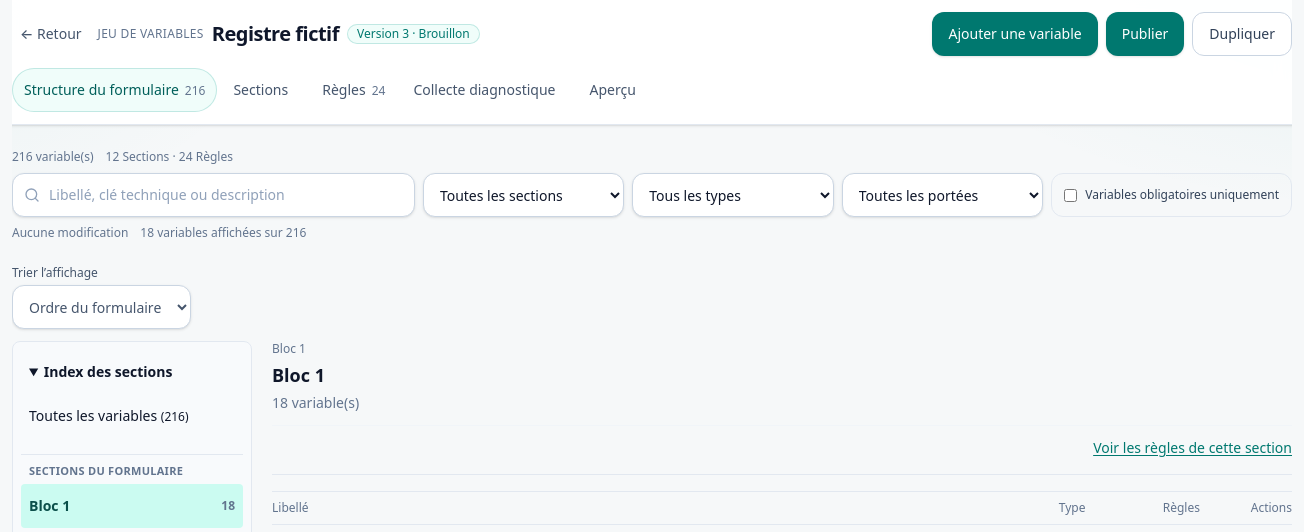
TemplateVersionEditor — 216 variables / 24 regles (UX-14) › trier l affichage ne reordonne jamais les donnees et suspend le deplacement
This screenshot has width=1304, height=532.
Expected: the heading "Registre fictif" is shown, [212,20,339,48]
Select "Bloc 1" in the dropdown named "Filtrer par section" at (524, 195), box [423,173,624,217]
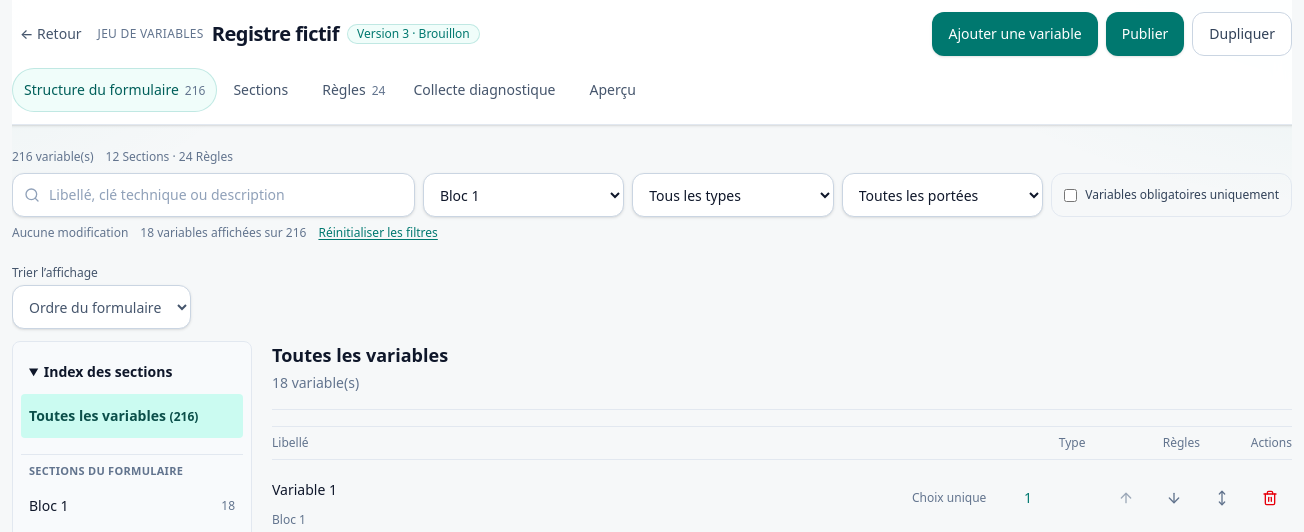
Select "Libellé" in the dropdown labelled "Trier l’affichage" at (102, 307), box [12,285,191,329]
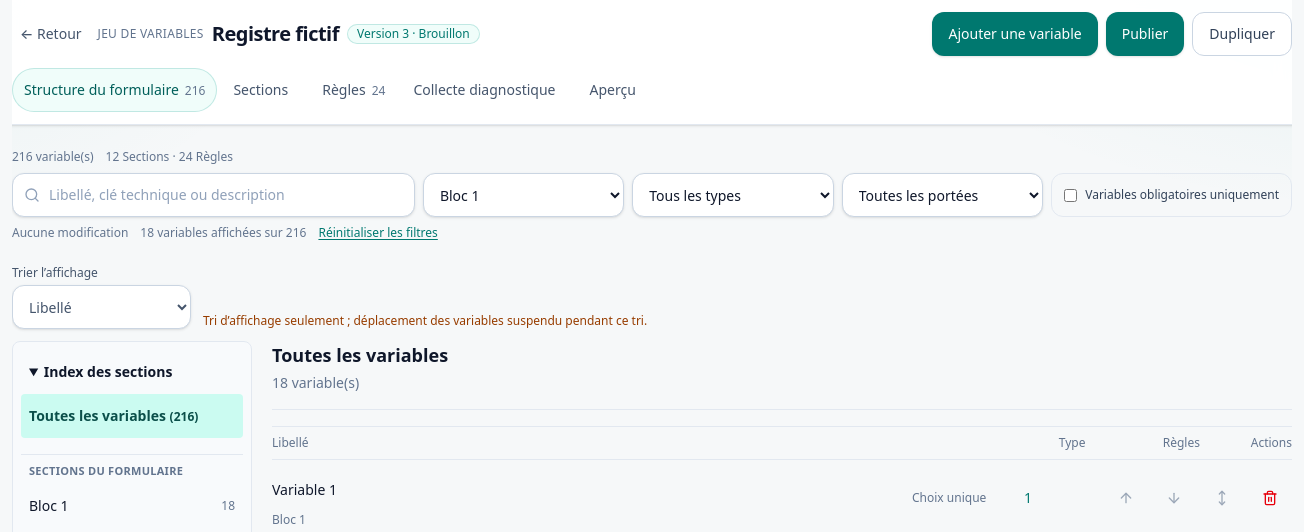
Expected: the text "Tri d’affichage seulement ; déplacement des variables suspendu" is shown, [203,312,647,329]
Expected: the button named "Descendre · Variable 1" is disabled, [1152,476,1196,520]
